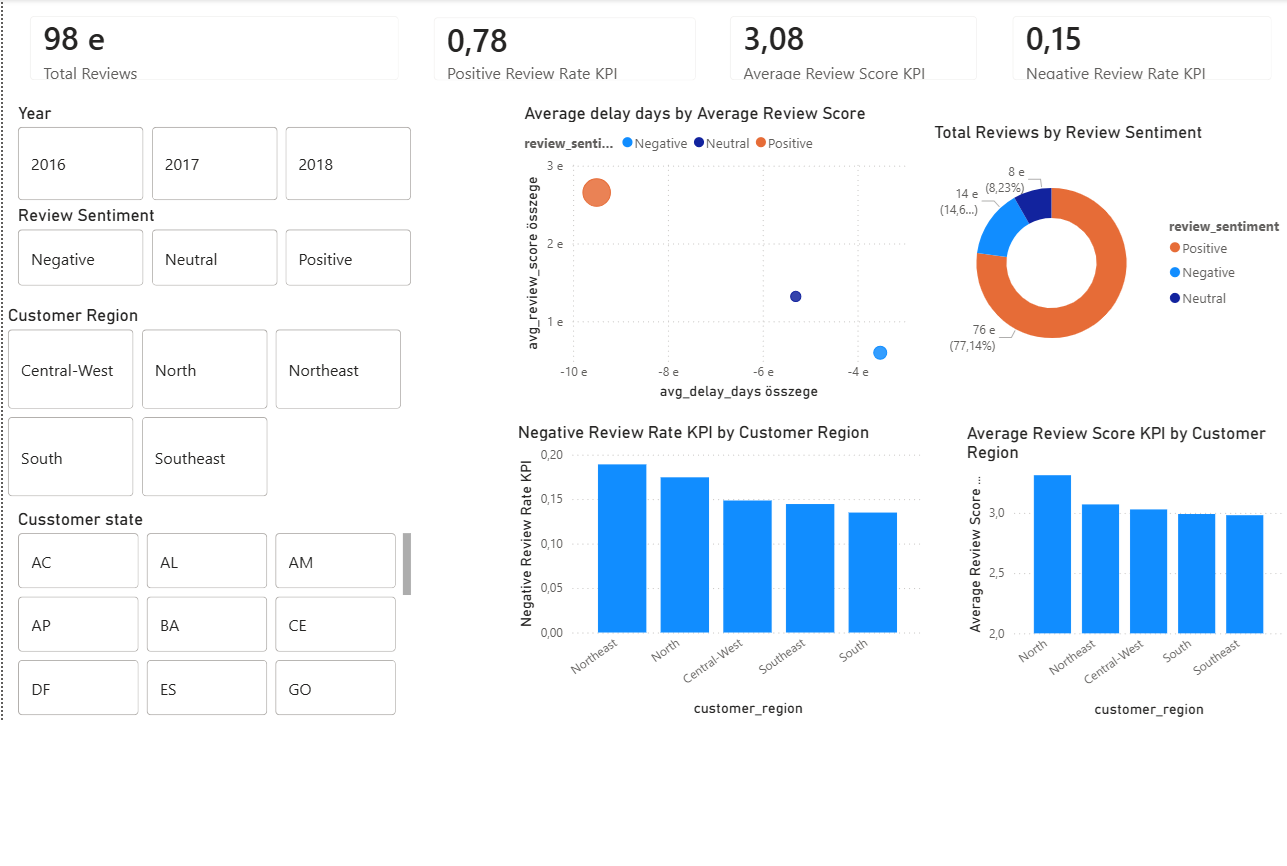

What the dashboard file says about the page in this screenshot:
{"tool":"powerbi","page":{"name":"Customer Satisfaction","canvas":[1280,720],"ordinal":2},"visuals":[{"type":"cardVisual","fields":{"Data":["mart customer_satisfaction.Total Reviews"]},"box":[10,0,401.4,98.6],"z":0},{"type":"cardVisual","fields":{"Data":["mart customer_satisfaction.Average Review Score KPI"]},"box":[707.1,0,280,98.6],"z":1000},{"type":"cardVisual","fields":{"Data":["mart customer_satisfaction.Negative Review Rate KPI"]},"box":[987.1,0,292.9,98.6],"z":2000},{"type":"cardVisual","fields":{"Data":["mart customer_satisfaction.Positive Review Rate KPI"]},"box":[411.4,1.4,295.7,97.1],"z":3000},{"type":"donutChart","title":"Total Reviews by Review Sentiment","fields":{"Category":["mart customer_satisfaction.review_sentiment"],"Y":["mart customer_satisfaction.Total Reviews"]},"box":[921.4,121.4,358.6,262.9],"z":4000},{"type":"clusteredColumnChart","title":"Average Review Score KPI by Customer Region","fields":{"Category":["mart customer_satisfaction.customer_region"],"Y":["mart customer_satisfaction.Average Review Score KPI"]},"box":[954.3,421.4,325.7,298.6],"z":5000},{"type":"scatterChart","title":"Average delay days by Average Review Score","fields":{"X":["Sum(mart customer_satisfaction.avg_delay_days)"],"Y":["Sum(mart customer_satisfaction.avg_review_score)"],"Size":["Sum(mart customer_satisfaction.review_count)"],"Series":["mart customer_satisfaction.review_sentiment"]},"box":[514.3,102.9,400,300],"z":6000},{"type":"clusteredColumnChart","title":"Negative Review Rate KPI by Customer Region","fields":{"Category":["mart customer_satisfaction.customer_region"],"Y":["mart customer_satisfaction.Negative Review Rate KPI"]},"box":[507,421,414,299],"z":7000},{"type":"advancedSlicerVisual","title":"Year","fields":{"Values":["mart customer_satisfaction.year"]},"box":[10,102.9,401.4,102.9],"z":8000},{"type":"advancedSlicerVisual","title":"Customer Region","fields":{"Values":["mart customer_satisfaction.customer_region"]},"box":[0,304.3,401.4,197.1],"z":9000},{"type":"advancedSlicerVisual","title":"Review Sentiment","fields":{"Values":["mart customer_satisfaction.review_sentiment"]},"box":[10,205.7,401.4,85.7],"z":10000},{"type":"advancedSlicerVisual","title":"Cusstomer state","fields":{"Values":["mart customer_satisfaction.customer_state"]},"box":[10,507,401,213],"z":11000}]}

Visuals, with their boxes on the page's 1280x720 design canvas (x1, y1, x2, y2). These are canvas units, not pixel positions in the 1287x866 screenshot, which may show the page scaled, cropped or inside an application window:
cardVisual - mart customer_satisfaction.Total Reviews: <region>10, 0, 411, 99</region>
cardVisual - mart customer_satisfaction.Average Review Score KPI: <region>707, 0, 987, 99</region>
cardVisual - mart customer_satisfaction.Negative Review Rate KPI: <region>987, 0, 1280, 99</region>
cardVisual - mart customer_satisfaction.Positive Review Rate KPI: <region>411, 1, 707, 98</region>
"Total Reviews by Review Sentiment" donutChart: <region>921, 121, 1280, 384</region>
"Average Review Score KPI by Customer Region" clusteredColumnChart: <region>954, 421, 1280, 720</region>
"Average delay days by Average Review Score" scatterChart: <region>514, 103, 914, 403</region>
"Negative Review Rate KPI by Customer Region" clusteredColumnChart: <region>507, 421, 921, 720</region>
"Year" advancedSlicerVisual: <region>10, 103, 411, 206</region>
"Customer Region" advancedSlicerVisual: <region>0, 304, 401, 501</region>
"Review Sentiment" advancedSlicerVisual: <region>10, 206, 411, 291</region>
"Cusstomer state" advancedSlicerVisual: <region>10, 507, 411, 720</region>
